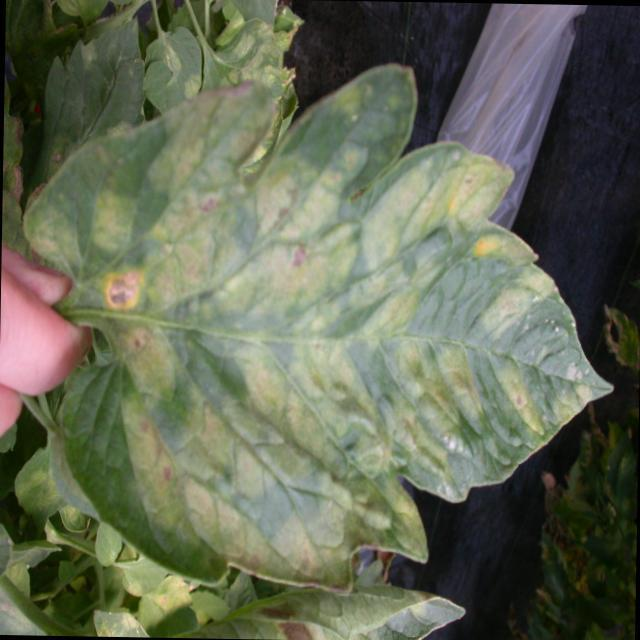Mosaic Virus: (47, 85, 580, 554)
